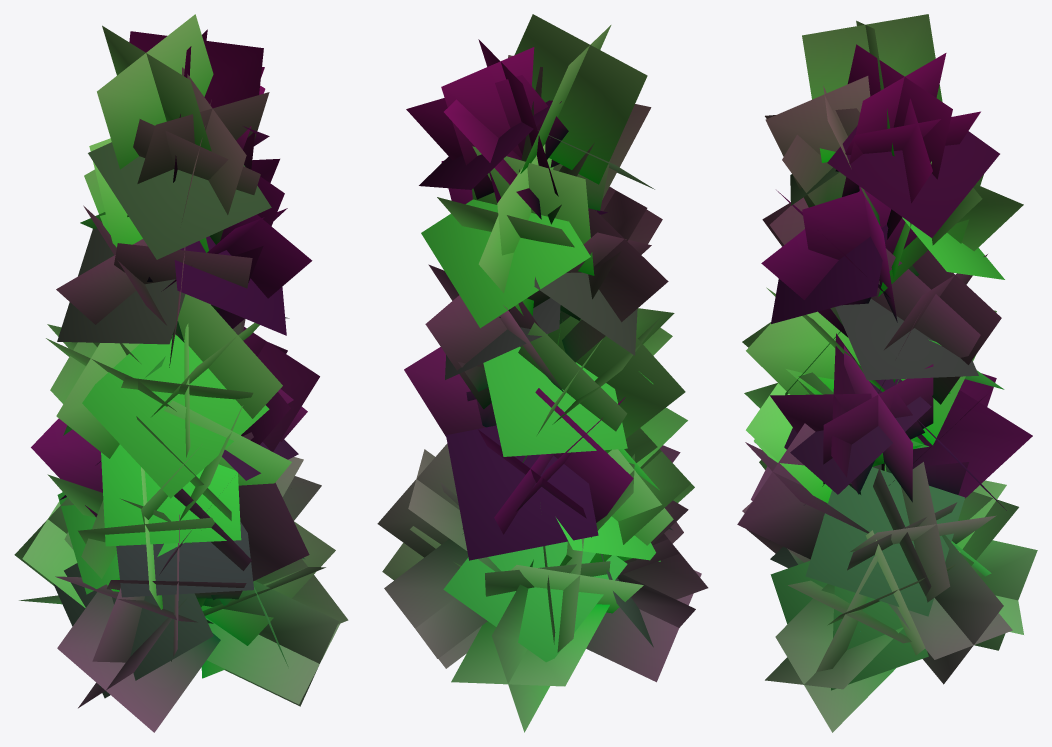
The model's file is M_P1_Tree_6.fbx.
3 views of the same model, side by side, from view 1: azimuth 30°, elevation 25°; view 2: azimuth 150°, elevation 25°; view 3: azimuth 270°, elevation 25° (orthographic). The views are drawn at different scales.
Parts seen in each view (by area): view 1: M_Tree_1_6; view 2: M_Tree_1_6; view 3: M_Tree_1_6.
Boxes of the visible parts, <box> form: M_Tree_1_6: <box>14,14,348,732</box>; M_Tree_1_6: <box>377,14,708,732</box>; M_Tree_1_6: <box>737,14,1037,732</box>.
Size of the model in its own units: 660 by 1557 by 637.
